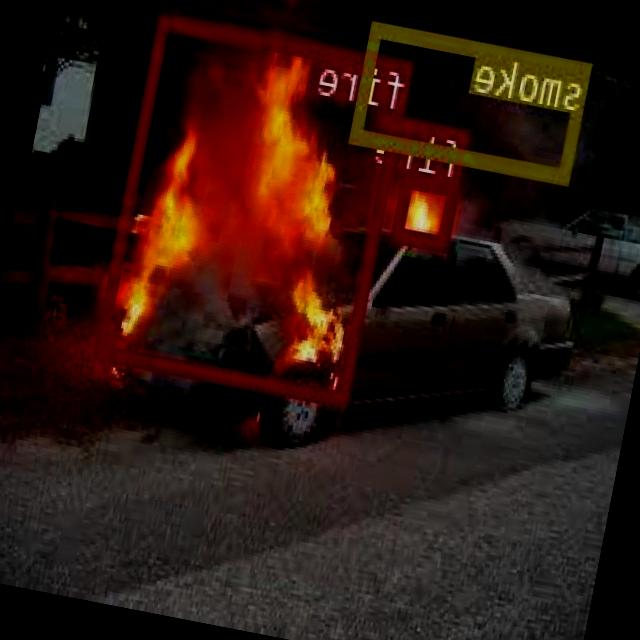fire: (96, 11, 414, 406), (394, 170, 464, 248)
smoke: (352, 21, 593, 182)
